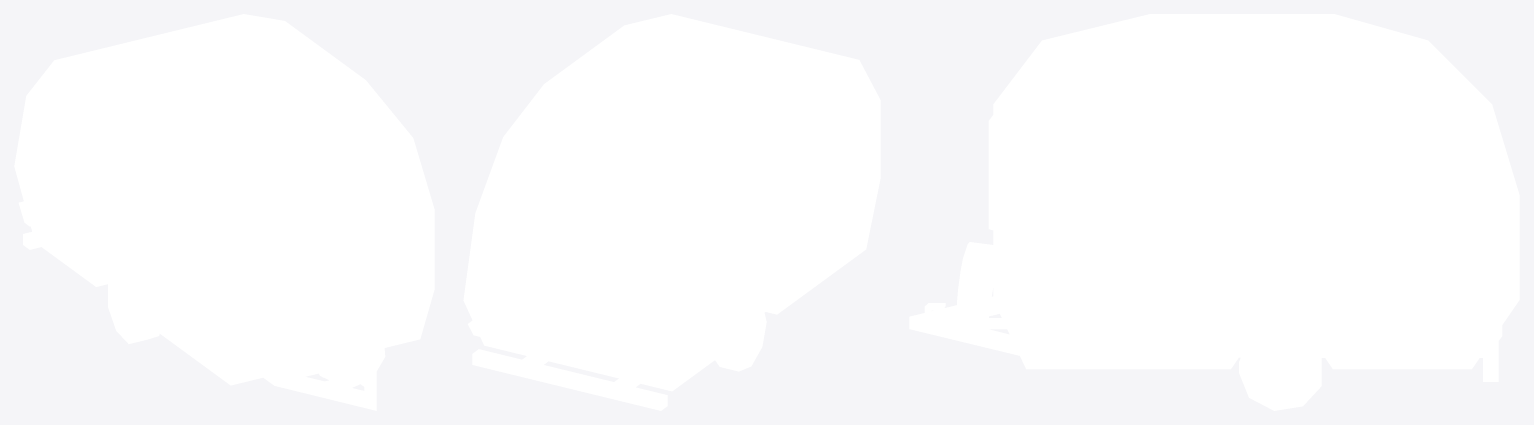
Rendered from car-caravan-small.glb.
3 views of the same model, side by side, from view 1: azimuth 30°, elevation 25°; view 2: azimuth 150°, elevation 25°; view 3: azimuth 270°, elevation 25° (orthographic). The views are drawn at different scales.
Parts seen in each view (by area): view 1: car-caravan-small-base, car-caravan-small-wheel_R; view 2: car-caravan-small-base, car-caravan-small-wheel_R; view 3: car-caravan-small-base, car-caravan-small-wheel_L.
Part boxes in pixels (box(x1,y1,x2,y2)): car-caravan-small-base: box(14, 14, 434, 410); car-caravan-small-wheel_R: box(108, 284, 159, 343); car-caravan-small-base: box(463, 14, 880, 410); car-caravan-small-wheel_R: box(715, 313, 766, 371); car-caravan-small-base: box(909, 14, 1519, 381); car-caravan-small-wheel_L: box(1239, 356, 1321, 410).
Size of the model in its own units: 2.18 by 2.8 by 5.14.
Materials: 1 (1 with a texture image).
